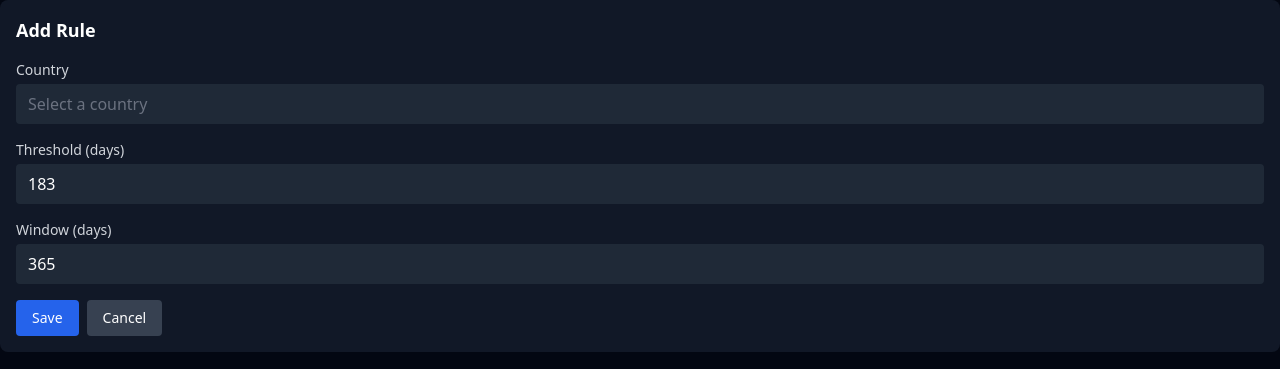
it: RuleForm - Add Mode (no initialValues) › opens dropdown and shows matching countries when typing in search
Step 1. Type "Aus" into the field with placeholder "Select a country" → (640, 104), box x1=16 y1=84 x2=1264 y2=124
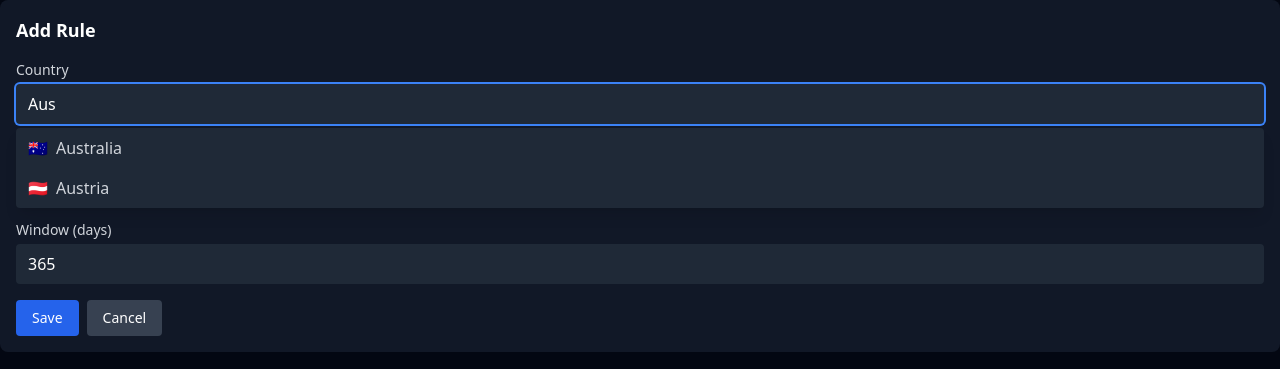
Expected: the text "Australia" is shown, x1=56 y1=136 x2=122 y2=160
Expected: the text "Austria" is shown, x1=56 y1=176 x2=109 y2=200
